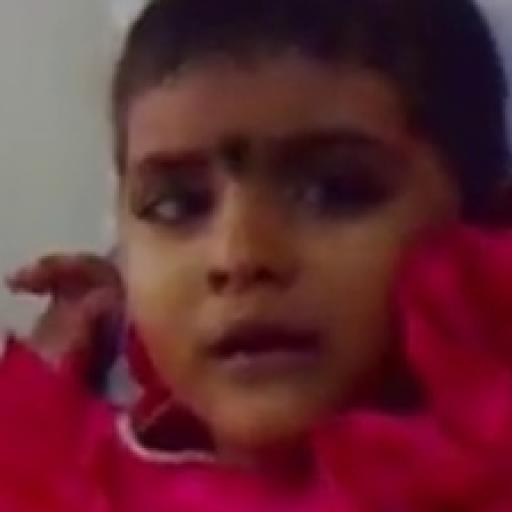Autism: (55, 30, 512, 441)
